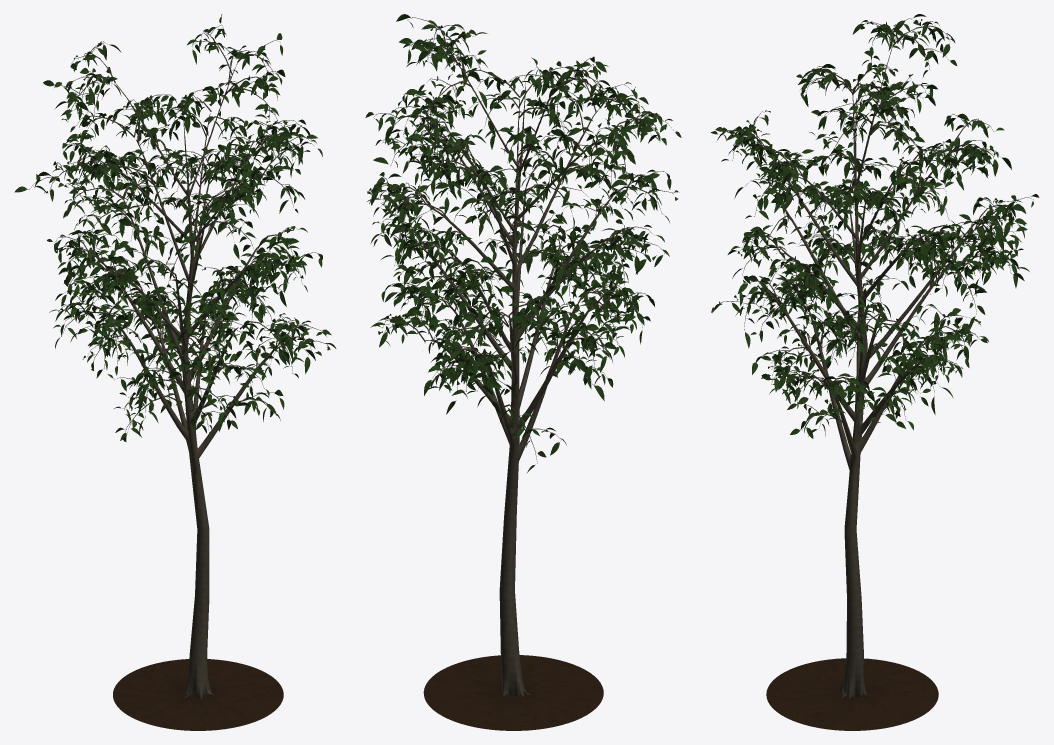
The model's file is fig-central.glb.
The picture shows the model from 3 angles, left to right: view 1: azimuth 30°, elevation 25°; view 2: azimuth 150°, elevation 25°; view 3: azimuth 270°, elevation 25°; orthographic projection. The views are drawn at different scales.
Visible parts, largest first — view 1: Ficus mature pointed laminae, Ficus trunk branches petioles, Ficus irregular soil and organic particles, Ficus young pointed laminae; view 2: Ficus mature pointed laminae, Ficus trunk branches petioles, Ficus irregular soil and organic particles, Ficus young pointed laminae; view 3: Ficus mature pointed laminae, Ficus trunk branches petioles, Ficus irregular soil and organic particles, Ficus young pointed laminae.
Boxes of the visible parts, box(x1,y1,x2,y2) form: Ficus mature pointed laminae: box(14, 14, 336, 441); Ficus trunk branches petioles: box(28, 24, 330, 699); Ficus irregular soil and organic particles: box(113, 659, 283, 730); Ficus young pointed laminae: box(44, 33, 327, 441); Ficus mature pointed laminae: box(365, 14, 679, 457); Ficus trunk branches petioles: box(367, 17, 673, 696); Ficus irregular soil and organic particles: box(423, 655, 603, 730); Ficus young pointed laminae: box(369, 21, 681, 472); Ficus mature pointed laminae: box(711, 14, 1039, 435); Ficus trunk branches petioles: box(714, 18, 1033, 698); Ficus irregular soil and organic particles: box(766, 658, 938, 730); Ficus young pointed laminae: box(711, 31, 1033, 438).
Bounding box in the file's own units: 1.74 × 3.66 × 1.69.
4 materials, 4 textured.
